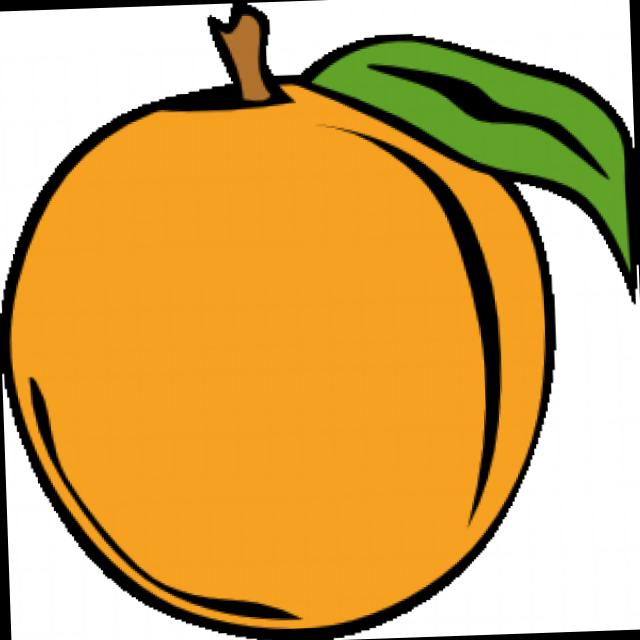orange: (0, 66, 560, 637)
